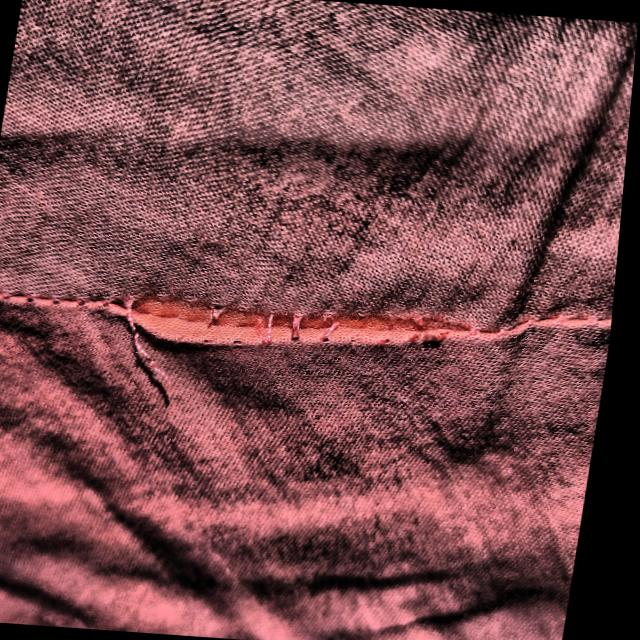seam: (95, 246, 477, 437)
